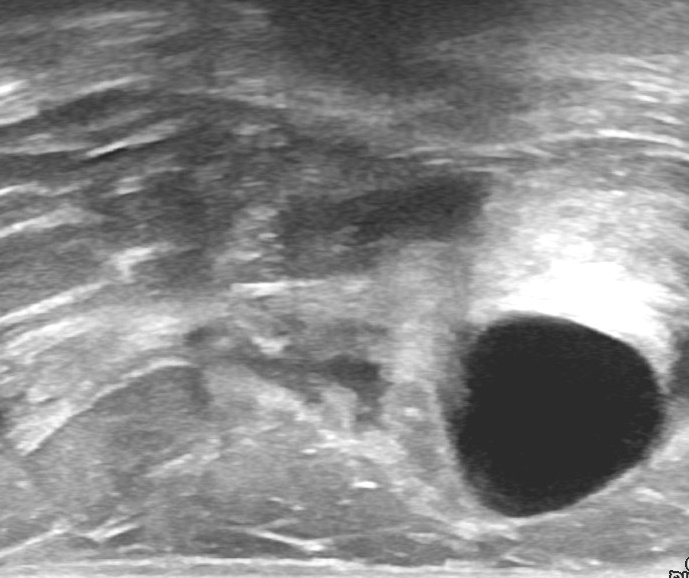Benign: (444, 307, 665, 513)
